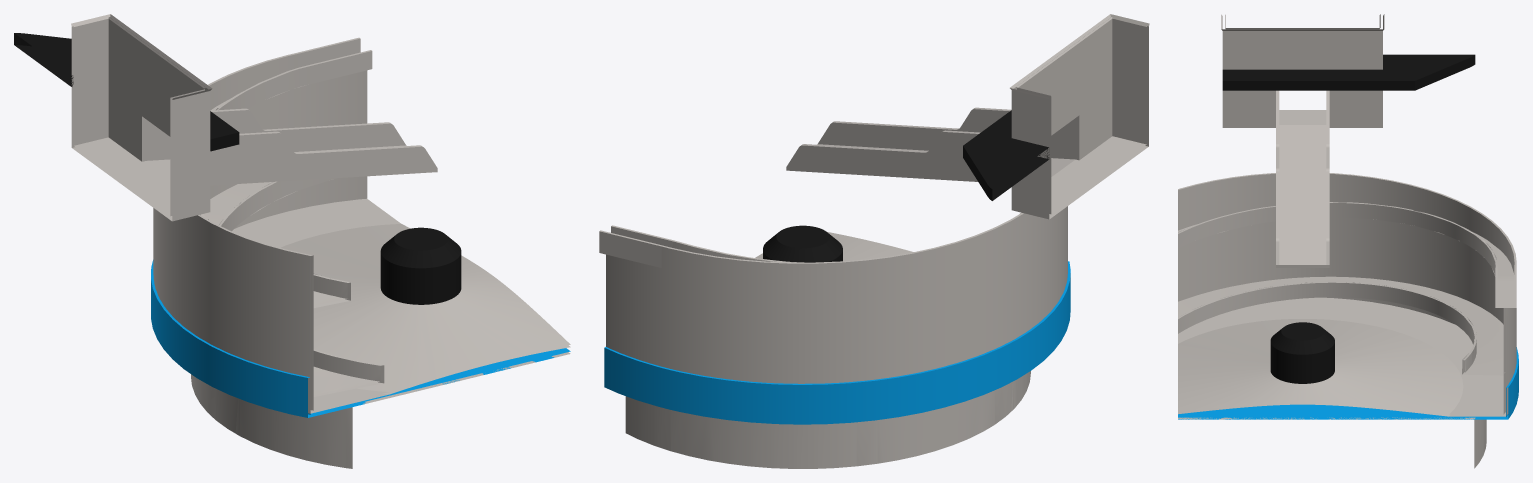
File: PinInsertionStation_Cube06.glb
The picture shows the model from 3 angles, left to right: view 1: azimuth 30°, elevation 25°; view 2: azimuth 150°, elevation 25°; view 3: azimuth 270°, elevation 25°; orthographic projection. The views are drawn at different scales.
Visible parts, largest first — view 1: color-25; view 2: color-25; view 3: color-25.
Part boxes in pixels (<box>): color-25: <box>14,14,570,468</box>; color-25: <box>599,14,1149,468</box>; color-25: <box>1178,14,1518,468</box>.
Bounding box in the file's own units: 0.32 × 0.32 × 0.3185.
